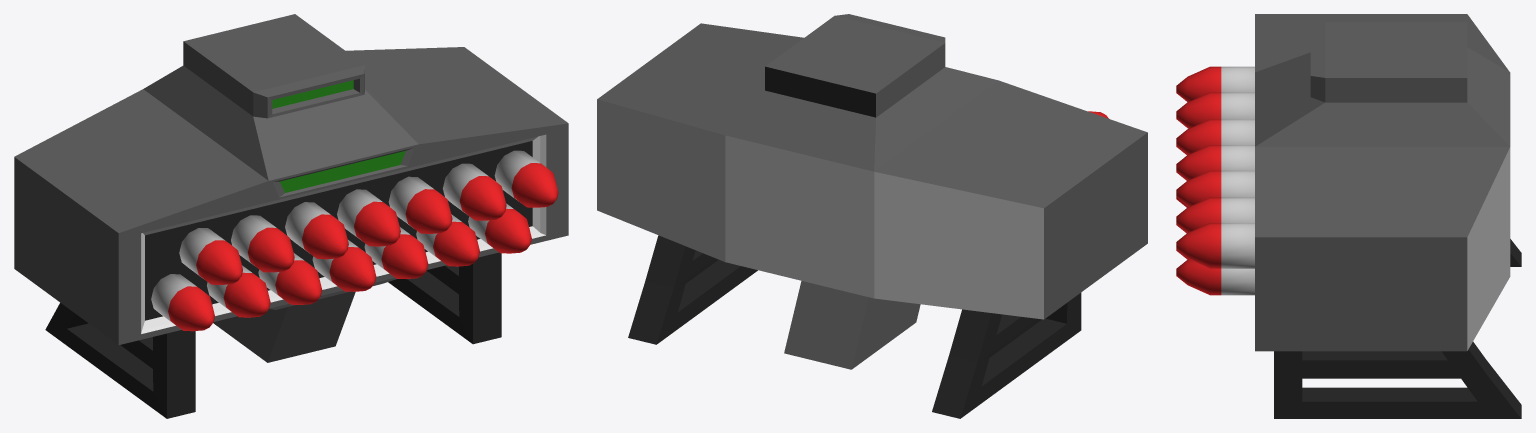
The model's file is missileSize2.glb.
The picture shows the model from 3 angles, left to right: view 1: azimuth 30°, elevation 25°; view 2: azimuth 150°, elevation 25°; view 3: azimuth 270°, elevation 25°; orthographic projection. The views are drawn at different scales.
Visible parts, largest first — view 1: Missile Size 2; view 2: Missile Size 2; view 3: Missile Size 2.
Boxes of the visible parts, left/top/right/bottom form: Missile Size 2: left=14, top=14, right=568, bottom=418; Missile Size 2: left=597, top=14, right=1147, bottom=418; Missile Size 2: left=1176, top=14, right=1521, bottom=418.
Size of the model in its own units: 1.44 by 0.8627 by 0.9428.
